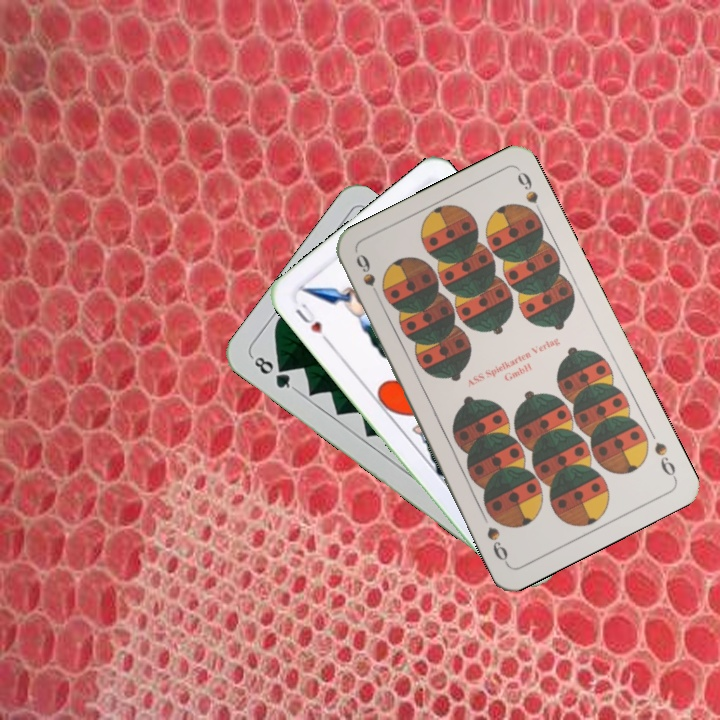G8: (248, 352, 299, 393)
HU: (291, 298, 332, 346)
S9: (351, 249, 385, 306), (650, 438, 679, 482)
